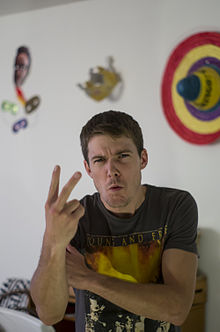v_s: (40, 165, 88, 253)
